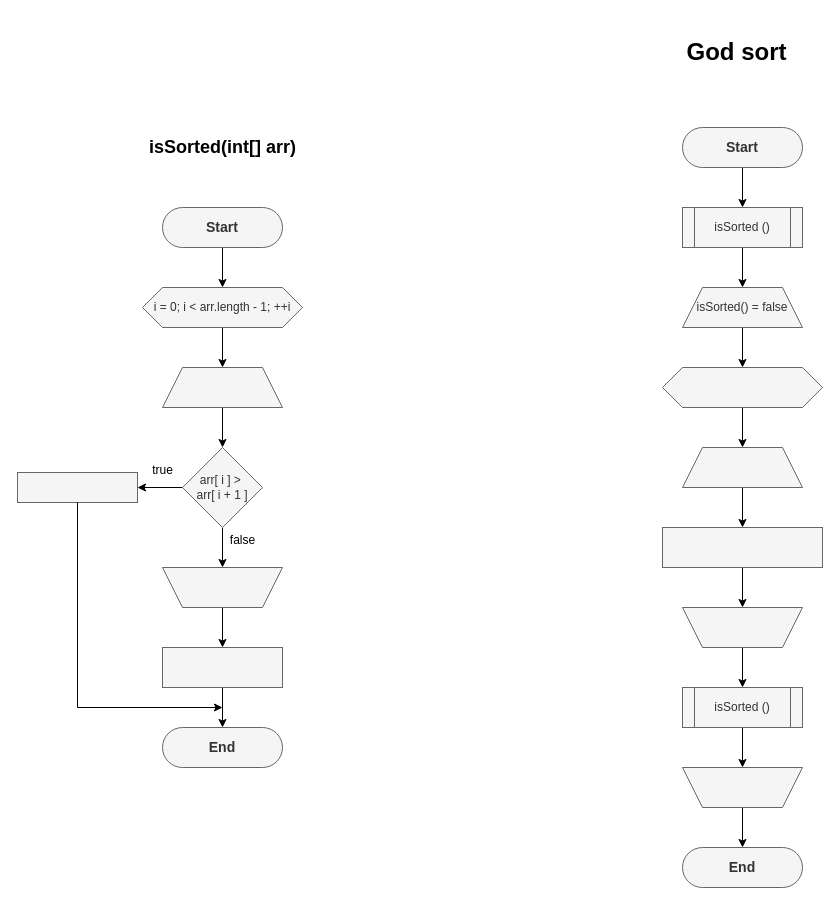
This 840x907 diagram has some shape labels left out. Here are the shapes that lost their labels. From the top down, the box of each, then its label:
(662, 366, 822, 408): i = 0; i < arr.length; ++i
(16, 472, 138, 502): return false
(662, 526, 822, 568): swap arr[i] and arr[ random[0, arr.length) ]
(162, 646, 282, 688): return true
(682, 766, 802, 808): isSorted = true
